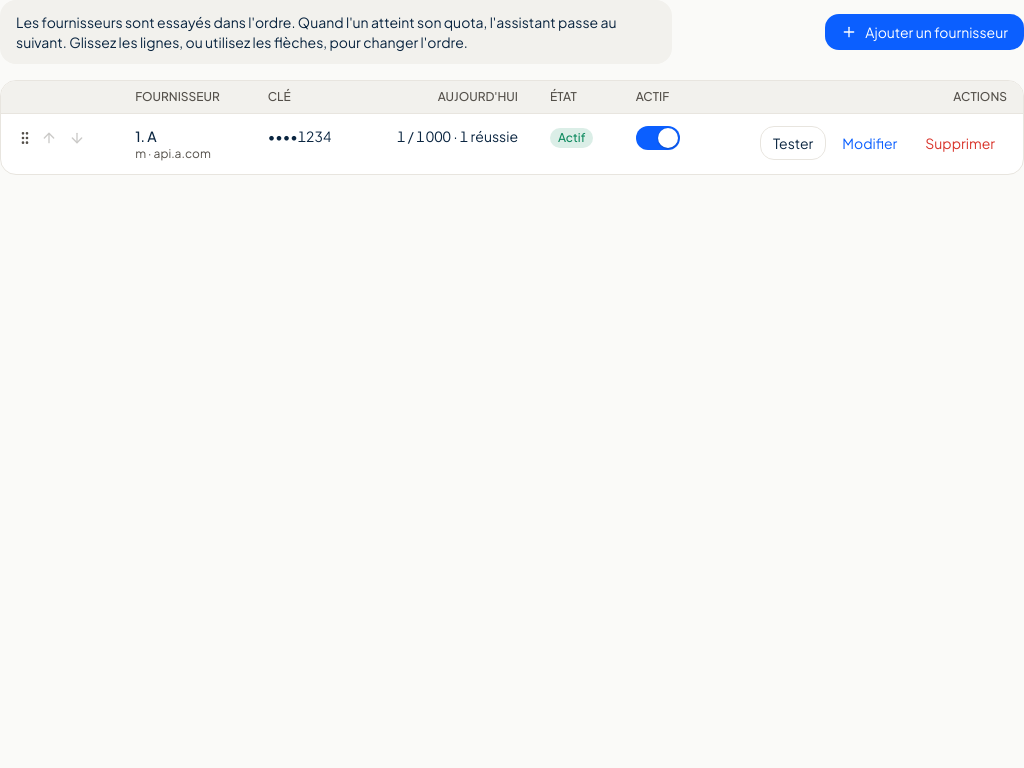
Scenario: /assistant › ouvre la fenêtre de modification
Click the button with test id "provider-edit-a".
click(870, 143)  # box [830,127,909,159]
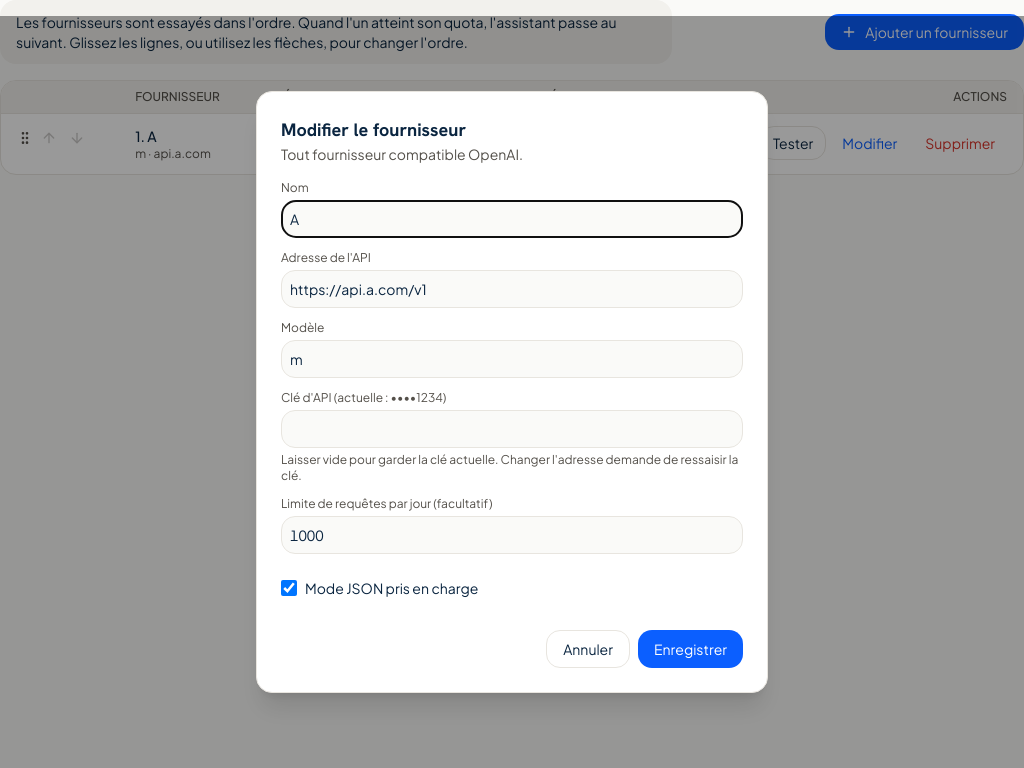
Expected: the dialog with test id "provider-dialog" is shown, [256,91,768,693]
